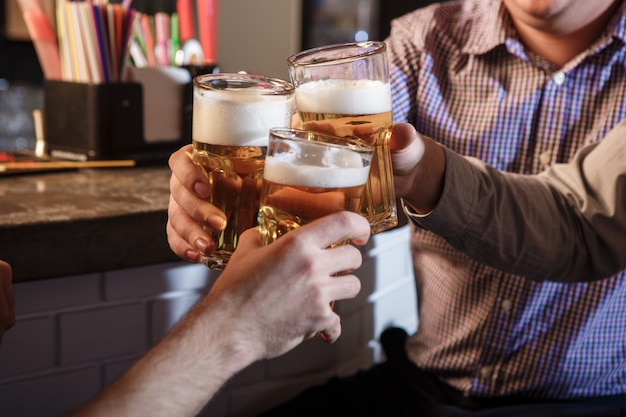alcohol: (257, 128, 374, 346), (289, 41, 401, 234), (195, 73, 297, 272)
